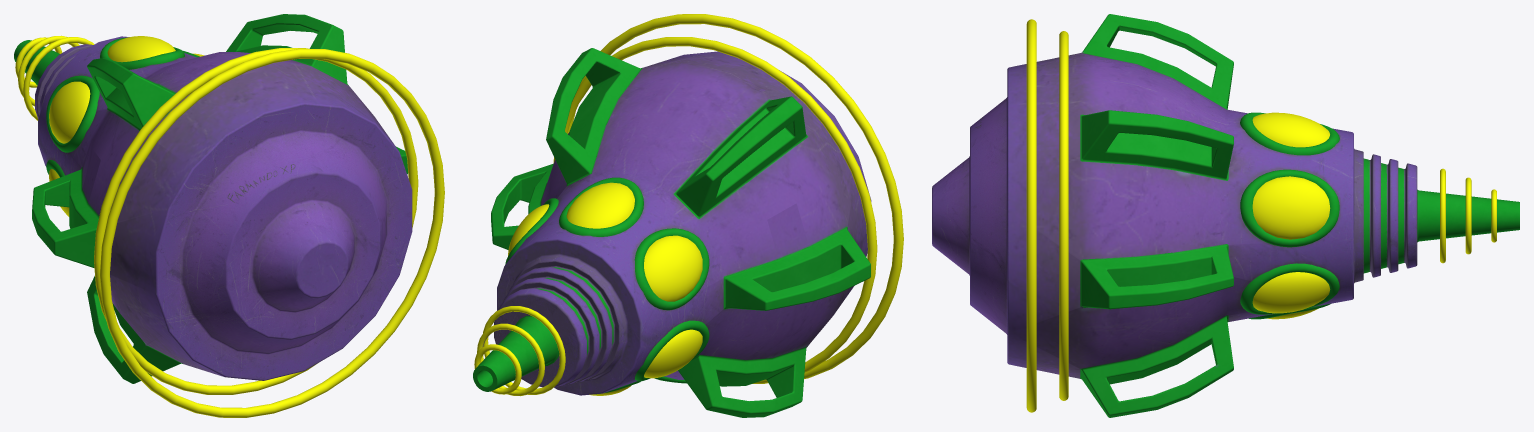
Rendered from Arma.fbx.
3 views of the same model, side by side, from view 1: azimuth 30°, elevation 25°; view 2: azimuth 150°, elevation 25°; view 3: azimuth 270°, elevation 25° (orthographic).
Parts seen in each view (by area): view 1: polySurface21; view 2: polySurface21; view 3: polySurface21.
Part boxes in pixels (x1,y1,x2,y2): polySurface21: (14,14,444,417); polySurface21: (473,14,903,417); polySurface21: (932,14,1519,417).
Size of the model in its own units: 68.98 by 66.35 by 99.08.
